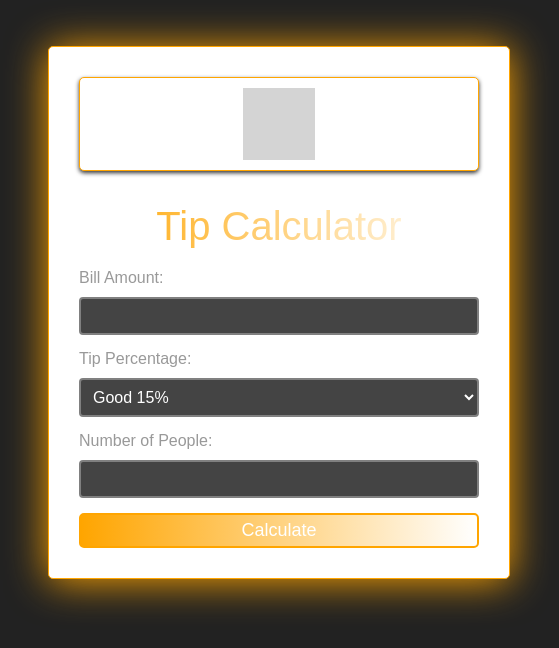
Test: TipCalculator › 4. Displays error for zero number of people
The image size is (559, 648).
Step 1. Type "100" into the number field labelled "Bill Amount:" → (279, 316), box [79,297,479,335]
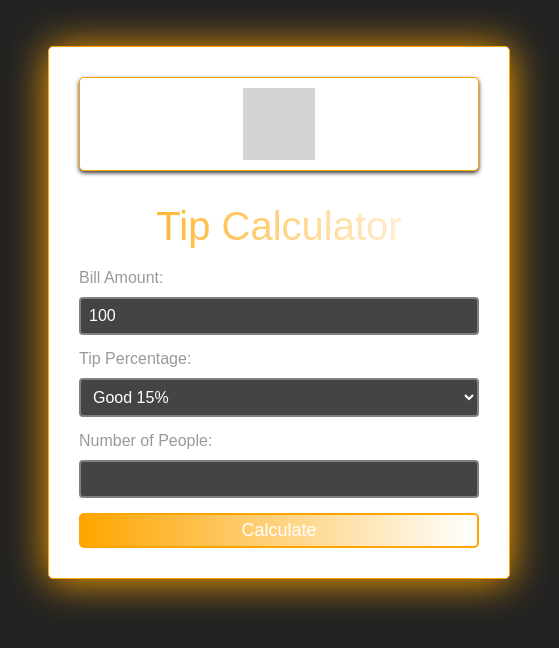
Step 2. Select "Good 15%" in the dropdown labelled "Tip Percentage:" → (279, 398), box [79,378,479,417]
Step 3. Type "0" into the number field labelled "Number of People:" → (279, 479), box [79,460,479,498]
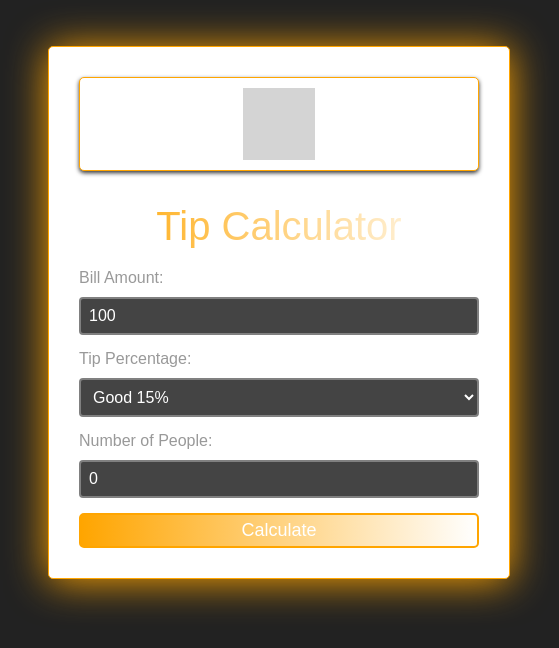
Step 4. Click the button "Calculate" → (279, 531), box [79,513,479,548]
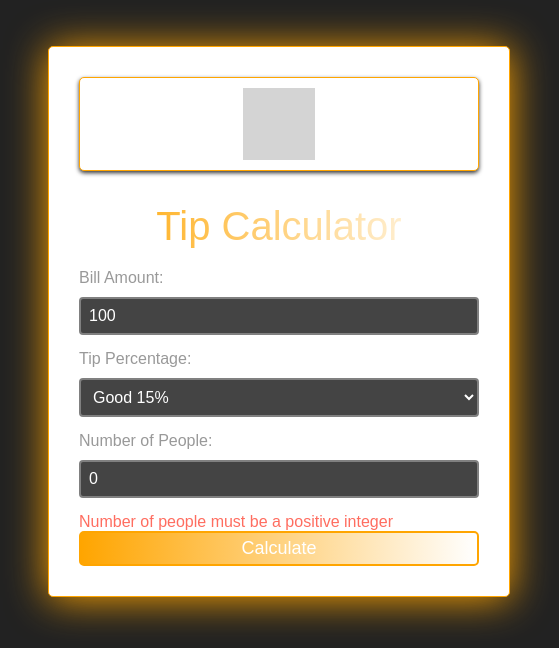
Check: the text "Number of people must be a positive integer" is shown, box [79,513,393,530]
